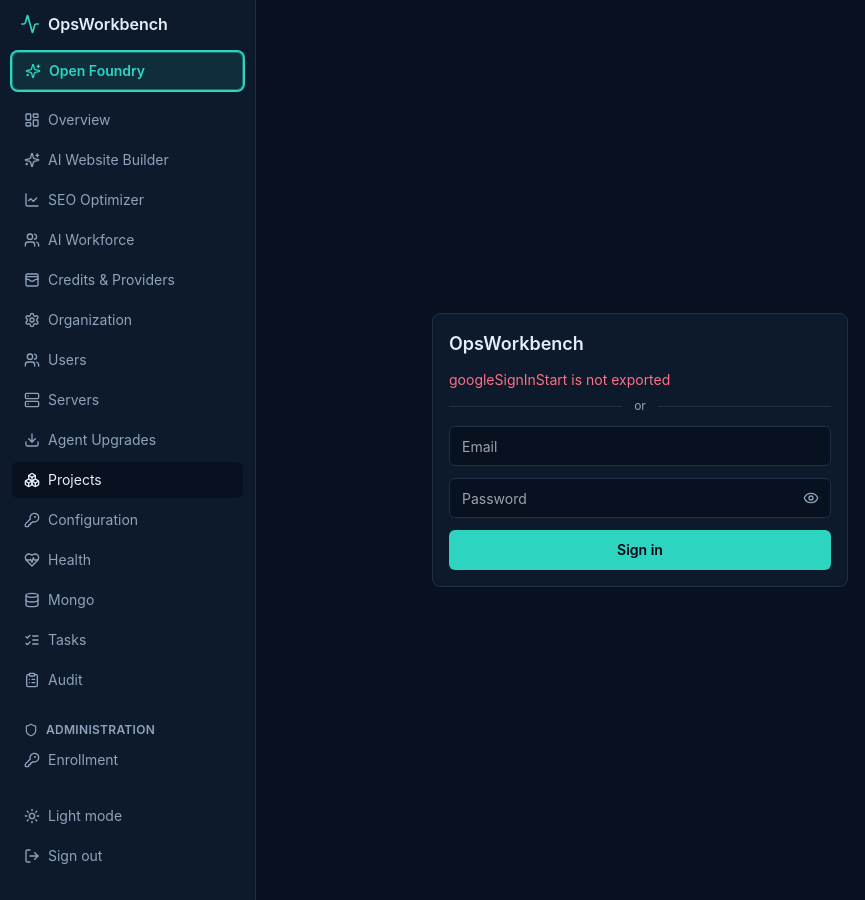
Test case: Responsive navigation › navigates through the shared page state and closes the mobile drawer
The width and height of the screenshot is (865, 900).
Earlier steps of the test are not shown.
Step 1. Click the button "Servers" → (128, 400), box [12,382,243,418]
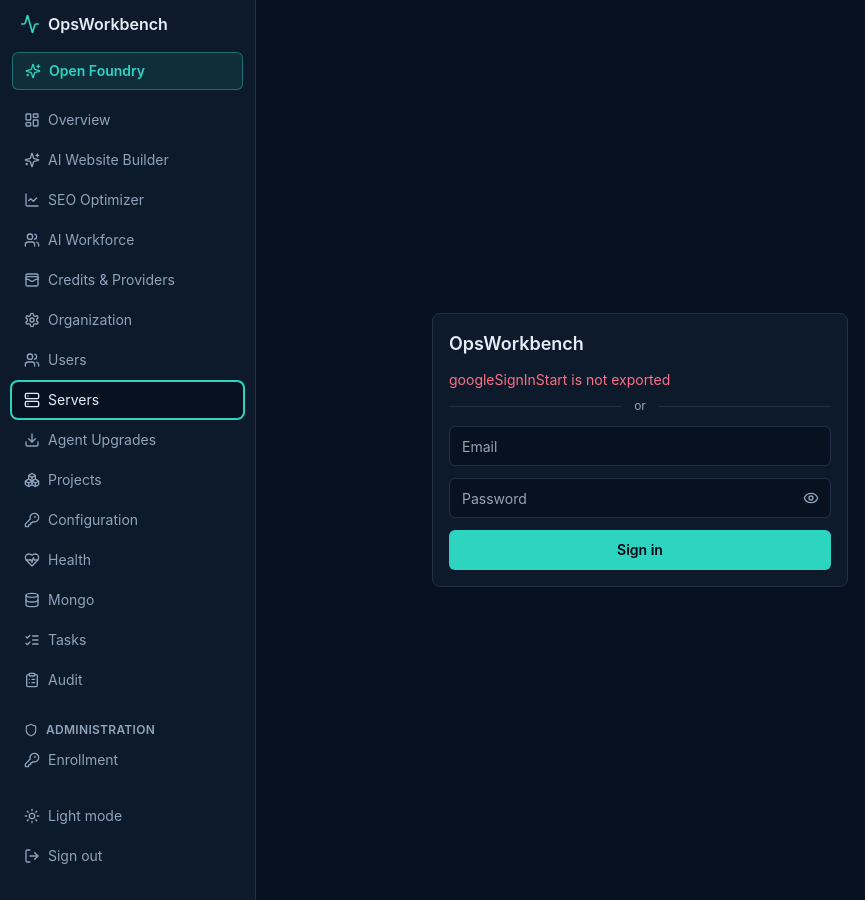
Now the button "Servers" is marked as current, box [12,382,243,418]
